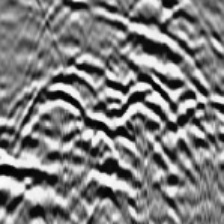cavities: (1, 21, 212, 220)
